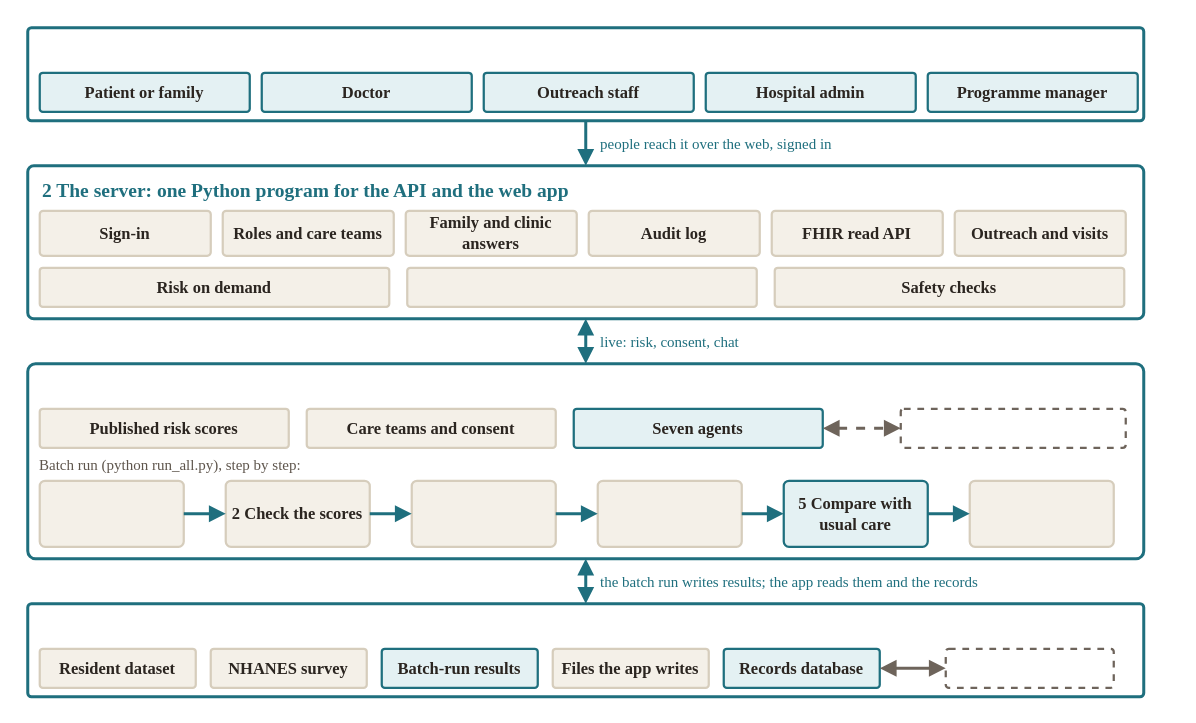
Some shapes in this 1196 by 723 pixel diagram are drawn without their labels. The box of each missing label's shape, as (x1, y1, x2, y2) in pixels:
1 Build the data: (38, 479, 184, 547)
1 People and the web app (English and Arabic): (26, 26, 1144, 122)
3 Decision logic and the batch run (published scores set the priority): (26, 362, 1144, 560)
3 Set up the scores: (410, 479, 556, 547)
4 Calibrate: (596, 479, 742, 547)
4 Where the data lives: (26, 602, 1144, 698)
6 Evaluate: (968, 479, 1114, 547)
Consent and chat: (405, 266, 757, 307)
Contact channels: (899, 407, 1126, 448)
Hospital / Malaffi: (944, 647, 1114, 688)
